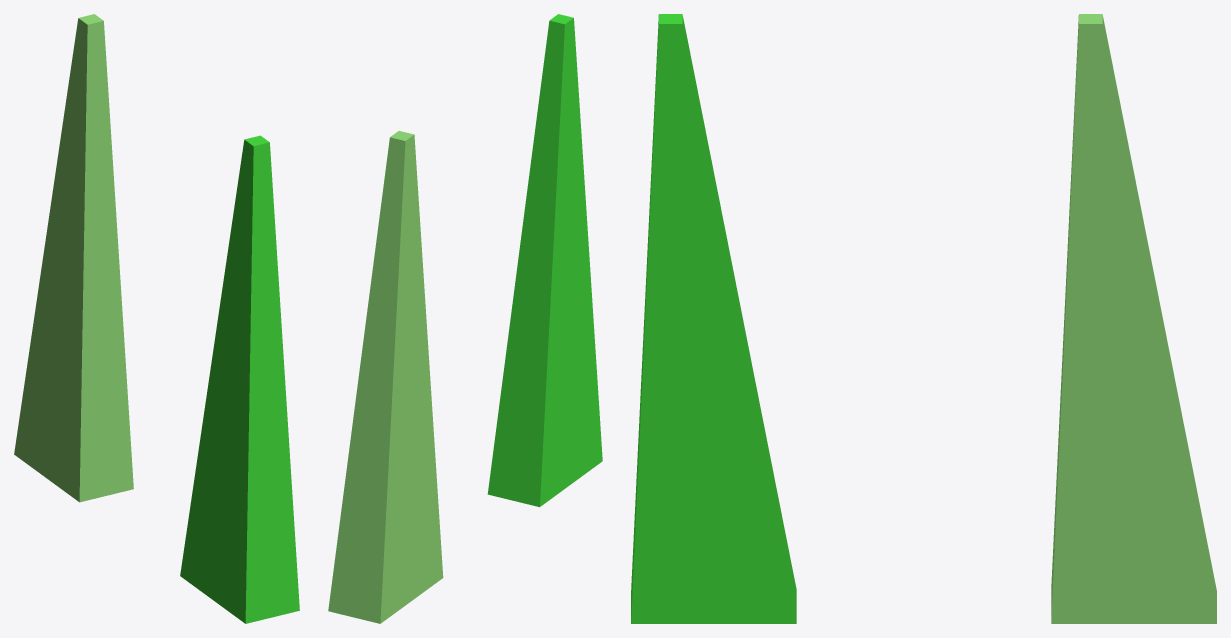
The model's file is grass1.fbx.
The picture shows the model from 3 angles, left to right: view 1: azimuth 30°, elevation 25°; view 2: azimuth 150°, elevation 25°; view 3: azimuth 270°, elevation 25°; orthographic projection. The views are drawn at different scales.
Parts seen in each view (by area): view 1: Cube.001, Cube; view 2: Cube, Cube.001; view 3: Cube, Cube.001.
Part boxes in pixels (x1,y1,x2,y2): Cube.001: (14,14,133,502); Cube: (180,135,299,623); Cube: (487,14,602,507); Cube.001: (328,131,443,623); Cube: (631,14,796,623); Cube.001: (1051,14,1216,623).
Bounding box in the file's own units: 24.45 × 200 × 180.
